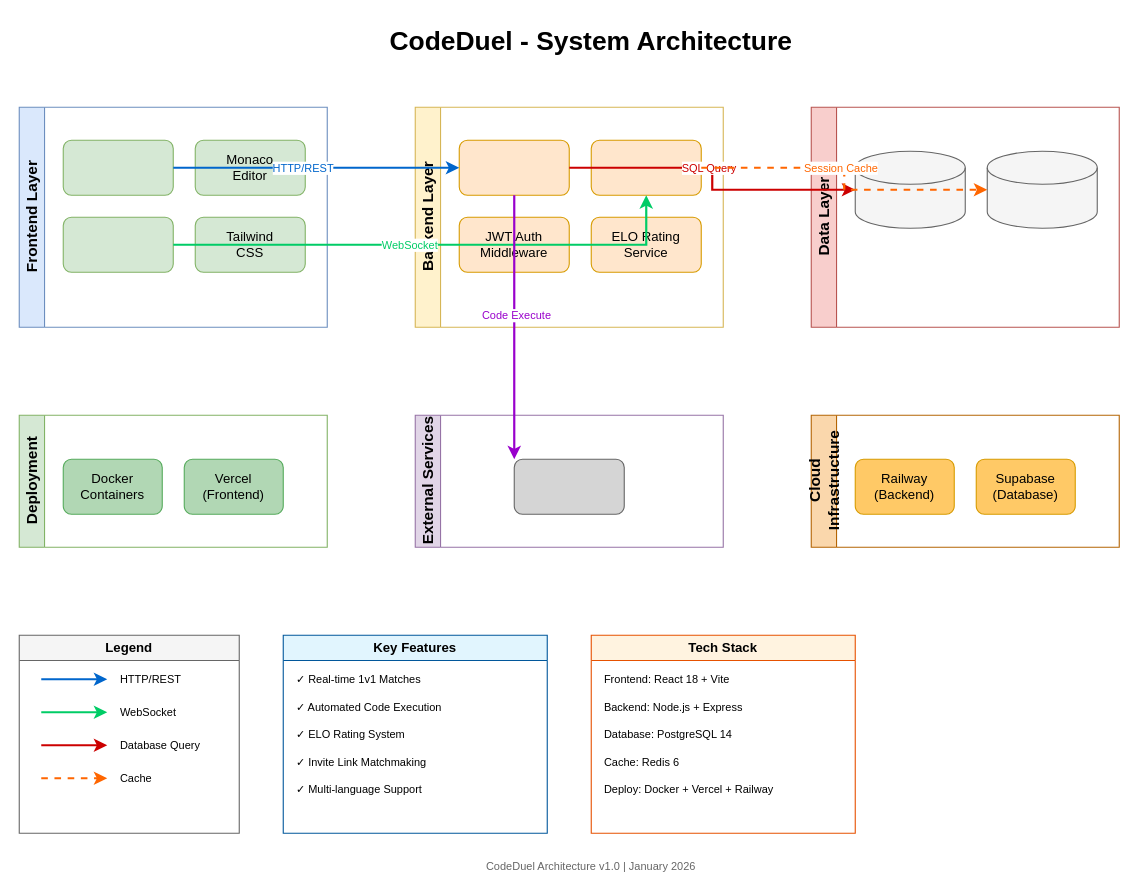
Some shapes in this 1139 by 895 pixel diagram are drawn without their labels. The centre of each missing label's shape, as x and y in pixels:
"Express.js REST API" goes at (x=513, y=167).
"Piston API Code Execution" goes at (x=568, y=486).
"PostgreSQL Database" goes at (x=909, y=189).
"React 18 + Vite" goes at (x=117, y=167).
"Redis Cache" goes at (x=1041, y=189).
"Socket.io Client" goes at (x=117, y=244).
"Socket.io Server" goes at (x=645, y=167).
